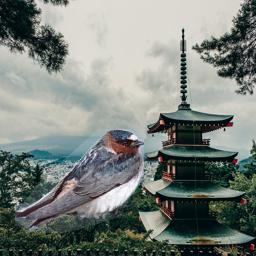Swallow: (15, 129, 144, 233)
